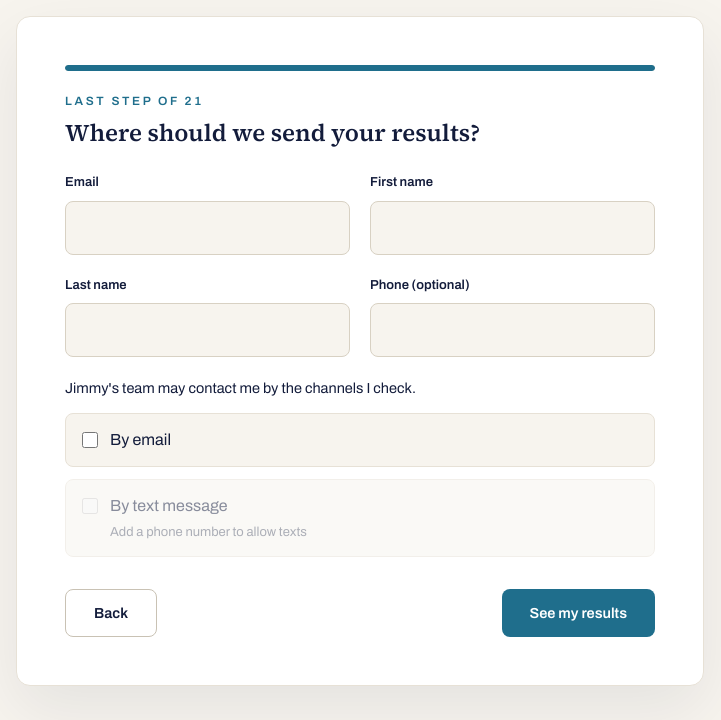
Test: AssessmentQuizClient results › shows the score and Action Plan at once, then confirms only after the receipt
The image size is (721, 720).
Expected: the text "Last step of 21" is shown, [65,94,204,108]
In the field labelled "Email": {"x": 208, "y": 228} [65,201,350,255], type "vet@example.com"
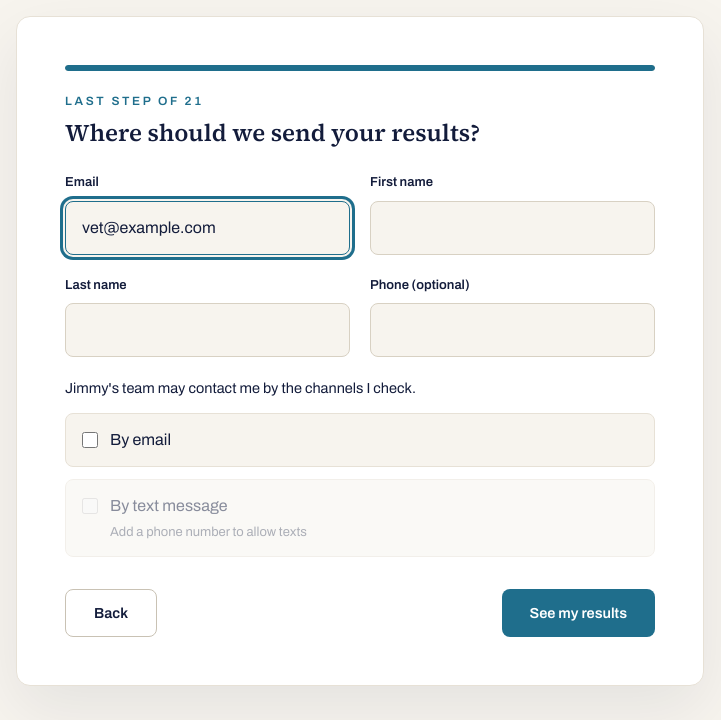
In the field labelled "First name": {"x": 512, "y": 228} [370,201,655,255], type "Pat"
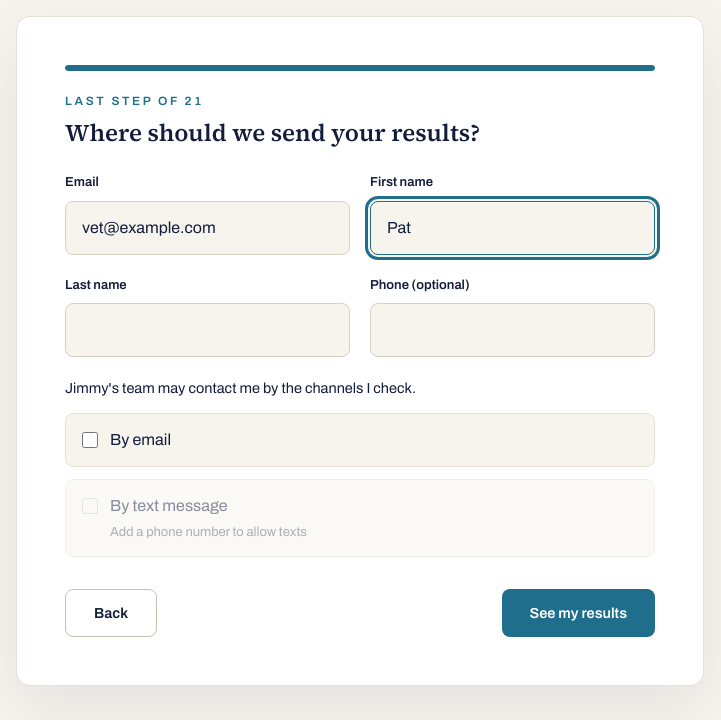
In the field labelled "Last name": {"x": 208, "y": 330} [65,303,350,357], type "Rivera"
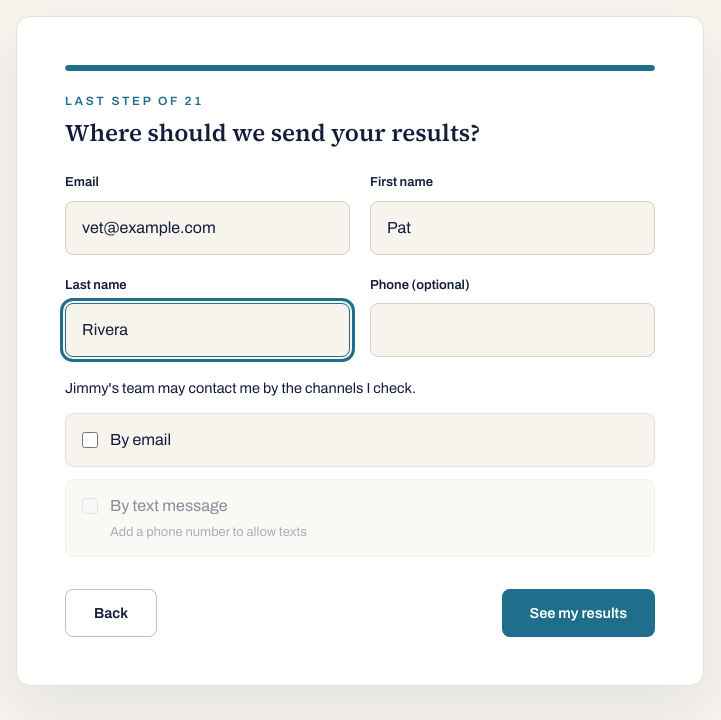
Click the checkbox labelled "By email": {"x": 90, "y": 440} [82,432,98,448]
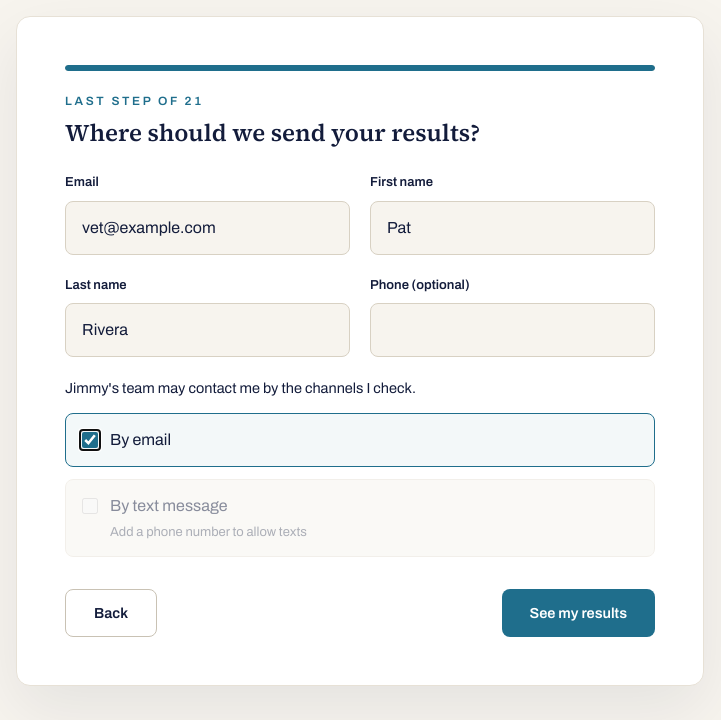
Click the button "See my results": {"x": 578, "y": 613} [502,589,655,637]
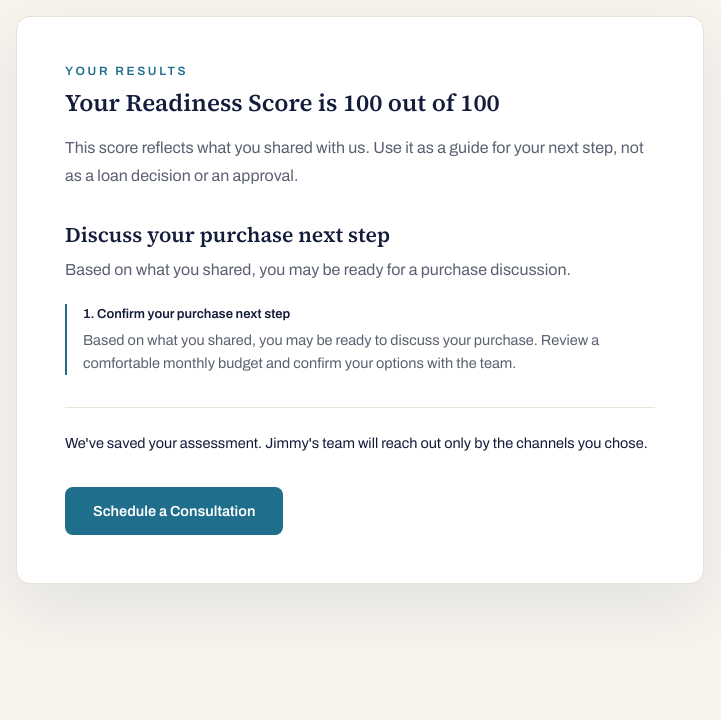
Expected: the heading "Discuss your purchase next step" is shown, [65,220,390,249]
Expected: the text "1. Confirm your purchase next step" is shown, [83,307,290,321]
Expected: the text "Saving your assessment..." is shown, [65,432,655,455]
